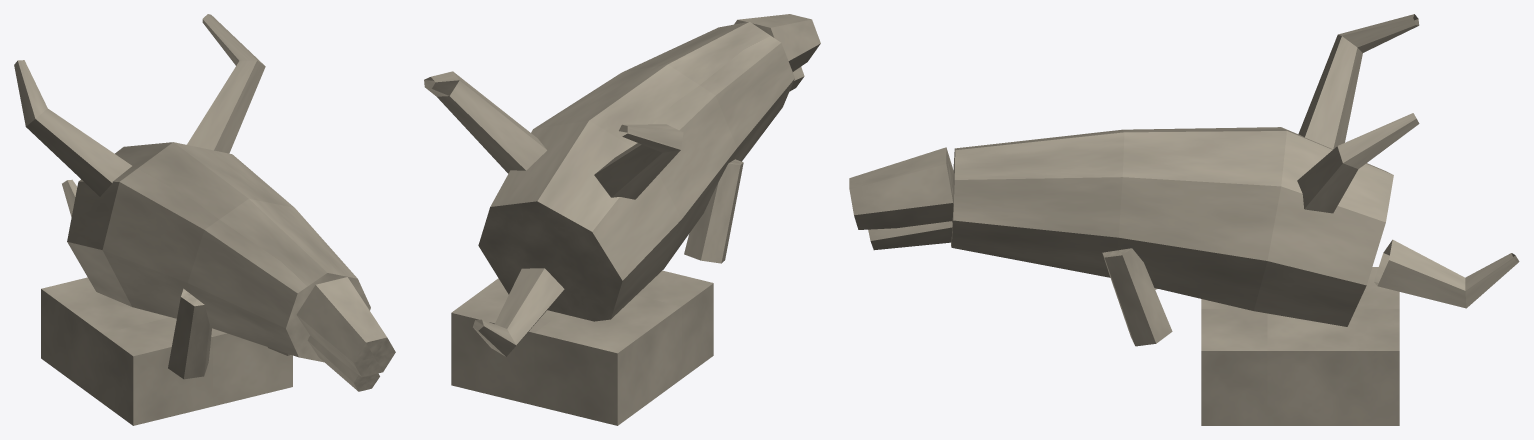
The model's file is Gargoyle_1.gltf.
3 views of the same model, side by side, from view 1: azimuth 30°, elevation 25°; view 2: azimuth 150°, elevation 25°; view 3: azimuth 270°, elevation 25° (orthographic). The views are drawn at different scales.
Parts seen in each view (by area): view 1: Gargoyle_1; view 2: Gargoyle_1; view 3: Gargoyle_1.
Part boxes in pixels (x1,y1,x2,y2): Gargoyle_1: [14, 14, 395, 425]; Gargoyle_1: [424, 14, 820, 425]; Gargoyle_1: [849, 14, 1519, 425].
Bounding box in the file's own units: 0.8871 × 1.07 × 2.03.
Materials: 1 (1 with a texture image).
